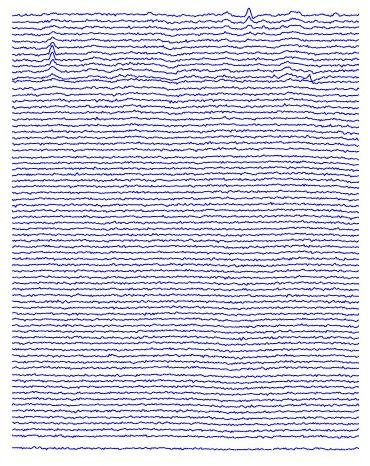defect: (297, 66, 321, 92), (237, 4, 259, 31), (44, 34, 61, 66)
